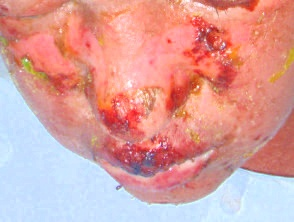SJS-TEN: (69, 3, 288, 222)
